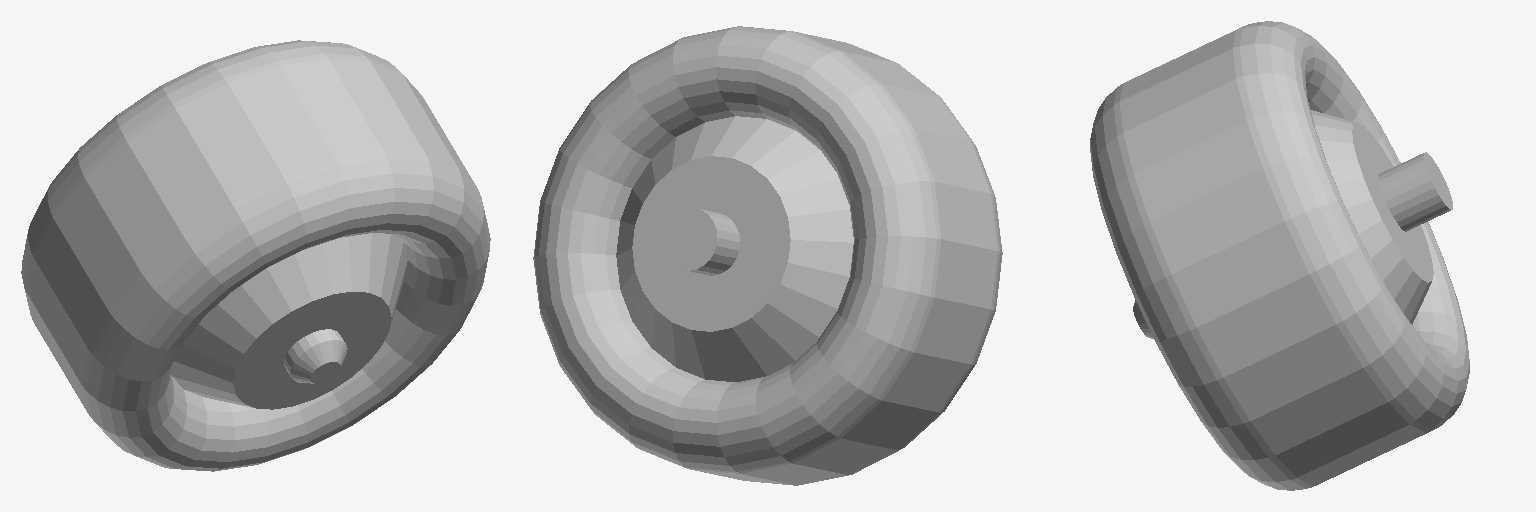
The model's file is original-35.obj.
3 views of the same model, side by side, from view 1: azimuth 30°, elevation 25°; view 2: azimuth 150°, elevation 25°; view 3: azimuth 270°, elevation 25° (orthographic).
Visible parts, largest first — view 1: W-35-A-1_2p1/mesh30/mesh30-geometry#mesh30-geometry; view 2: W-35-A-1_2p1/mesh30/mesh30-geometry#mesh30-geometry; view 3: W-35-A-1_2p1/mesh30/mesh30-geometry#mesh30-geometry.
Part boxes in pixels (left/top/right/bottom): W-35-A-1_2p1/mesh30/mesh30-geometry#mesh30-geometry: left=21, top=40, right=490, bottom=471; W-35-A-1_2p1/mesh30/mesh30-geometry#mesh30-geometry: left=533, top=26, right=1002, bottom=485; W-35-A-1_2p1/mesh30/mesh30-geometry#mesh30-geometry: left=1090, top=21, right=1469, bottom=490.
Bounding box in the file's own units: 0.0688 × 0.0715 × 0.058.